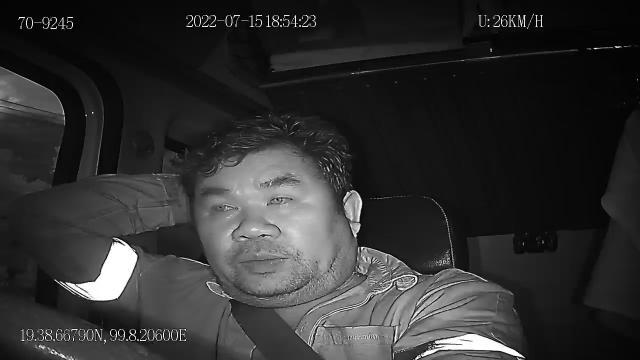SafeDriving: (202, 193, 246, 218), (263, 182, 302, 210)
Seatbelt: (228, 296, 324, 360)
